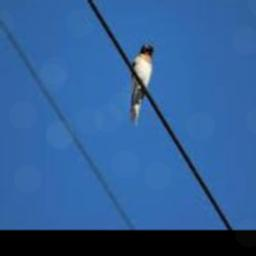Swallow: (127, 42, 154, 125)
